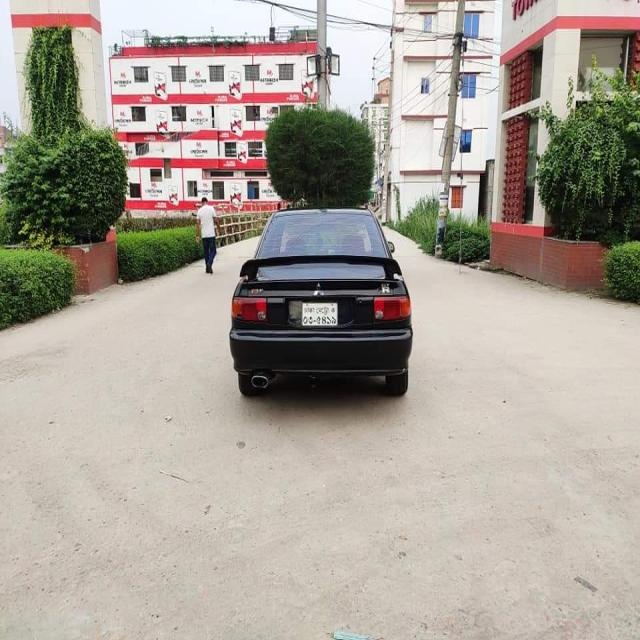black: (224, 202, 438, 415)
